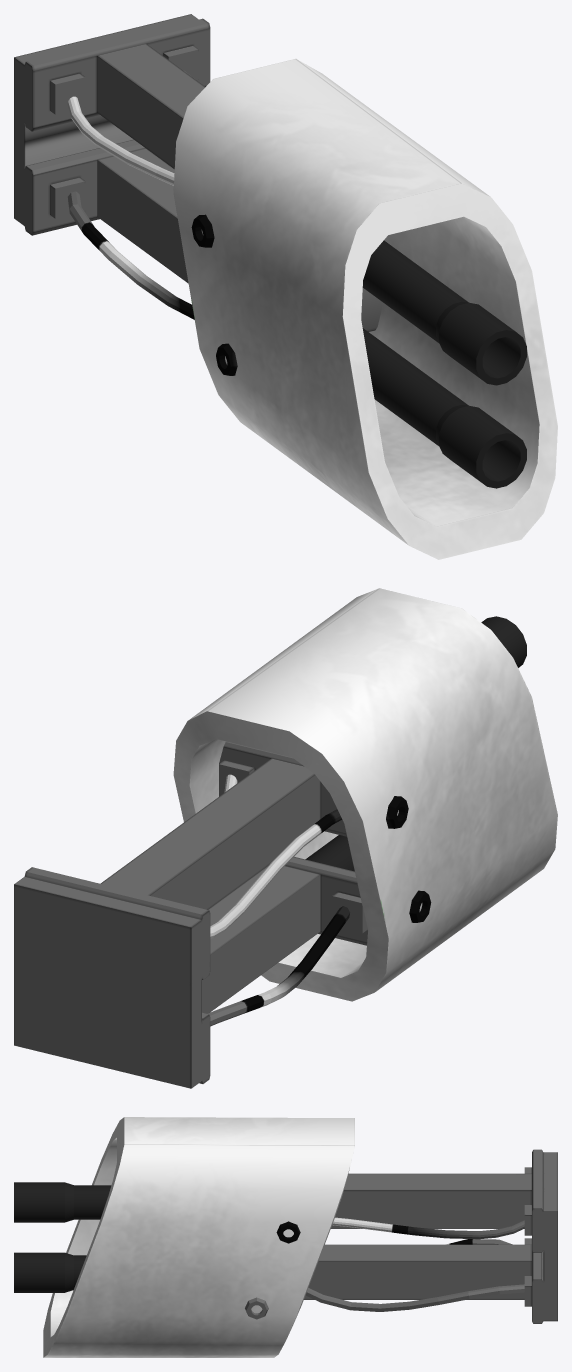
The model's file is SMG_LT01_Barrel.fbx.
The picture shows the model from 3 angles, top to bottom: view 1: azimuth 30°, elevation 25°; view 2: azimuth 150°, elevation 25°; view 3: azimuth 270°, elevation 25°; orthographic projection. The views are drawn at different scales.
Parts seen in each view (by area): view 1: SMG_LT01_Barrel; view 2: SMG_LT01_Barrel; view 3: SMG_LT01_Barrel.
Boxes of the visible parts, bbox=[...] form: SMG_LT01_Barrel: bbox=[14, 14, 557, 559]; SMG_LT01_Barrel: bbox=[14, 588, 557, 1088]; SMG_LT01_Barrel: bbox=[14, 1117, 557, 1357].
Size of the model in its own units: 29.97 by 44.51 by 103.
